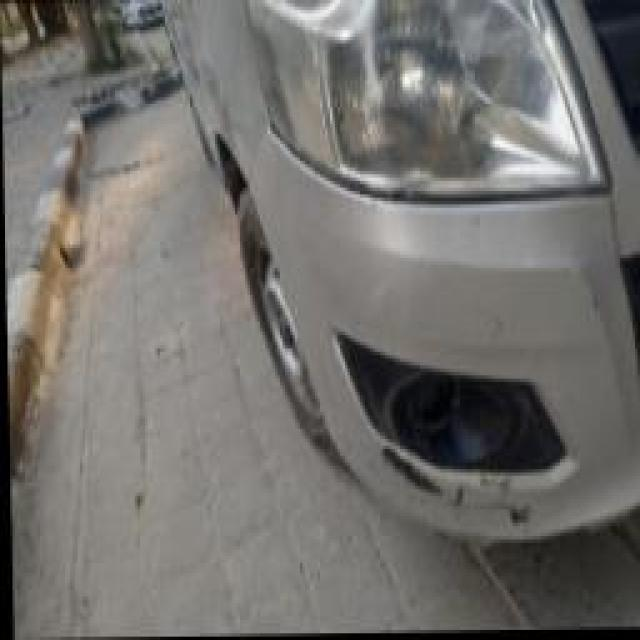Bumper: (302, 258, 560, 553)
